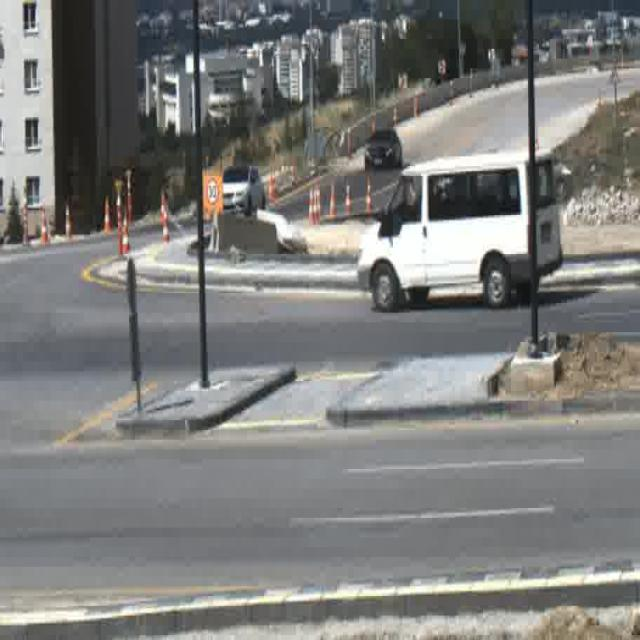Car: (356, 149, 560, 319), (220, 168, 265, 218), (363, 128, 402, 171)
